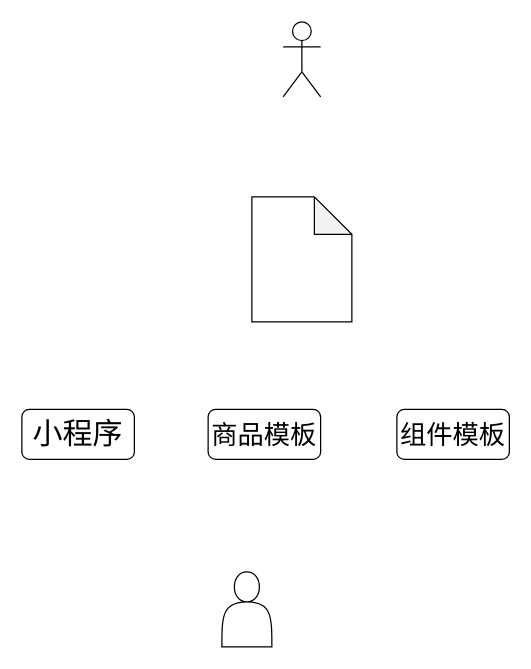
Some shapes in this 531 by 669 pixel diagram are drawn without their labels. The centre of each missing label's shape, as x and y in pixels:
"Actor" belongs at [301,59].
"文章" belongs at [301,259].
